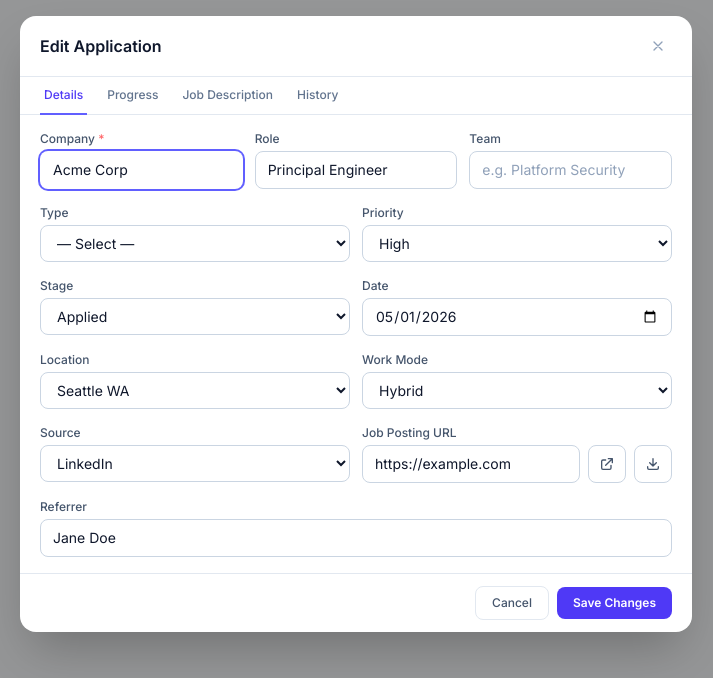
Test: ApplicationModal — History tab › shows empty state when there is no history
What coordinates should you click on to do the following:
click the button "History"
I would click on:
 (318, 96)
Its box is [293, 77, 342, 115].
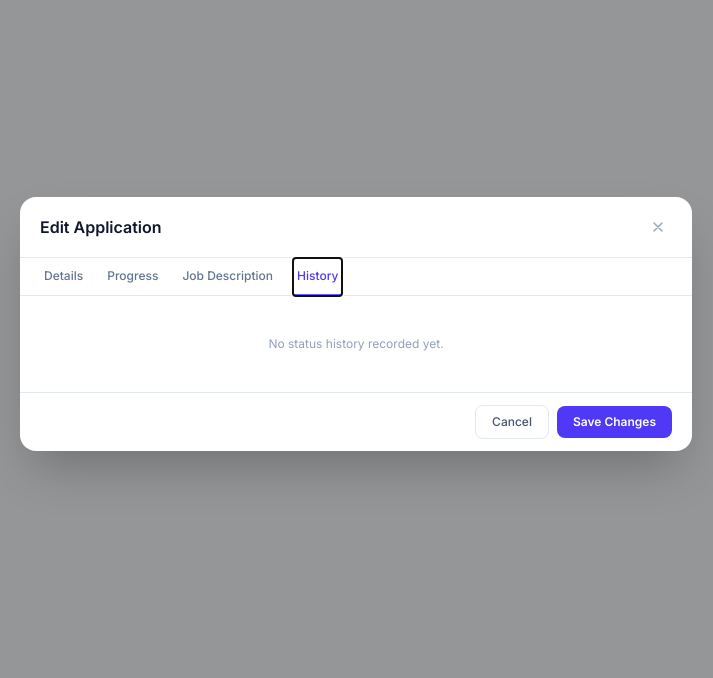
Result: the text "No status history recorded yet." is shown at [268, 336, 444, 351]
